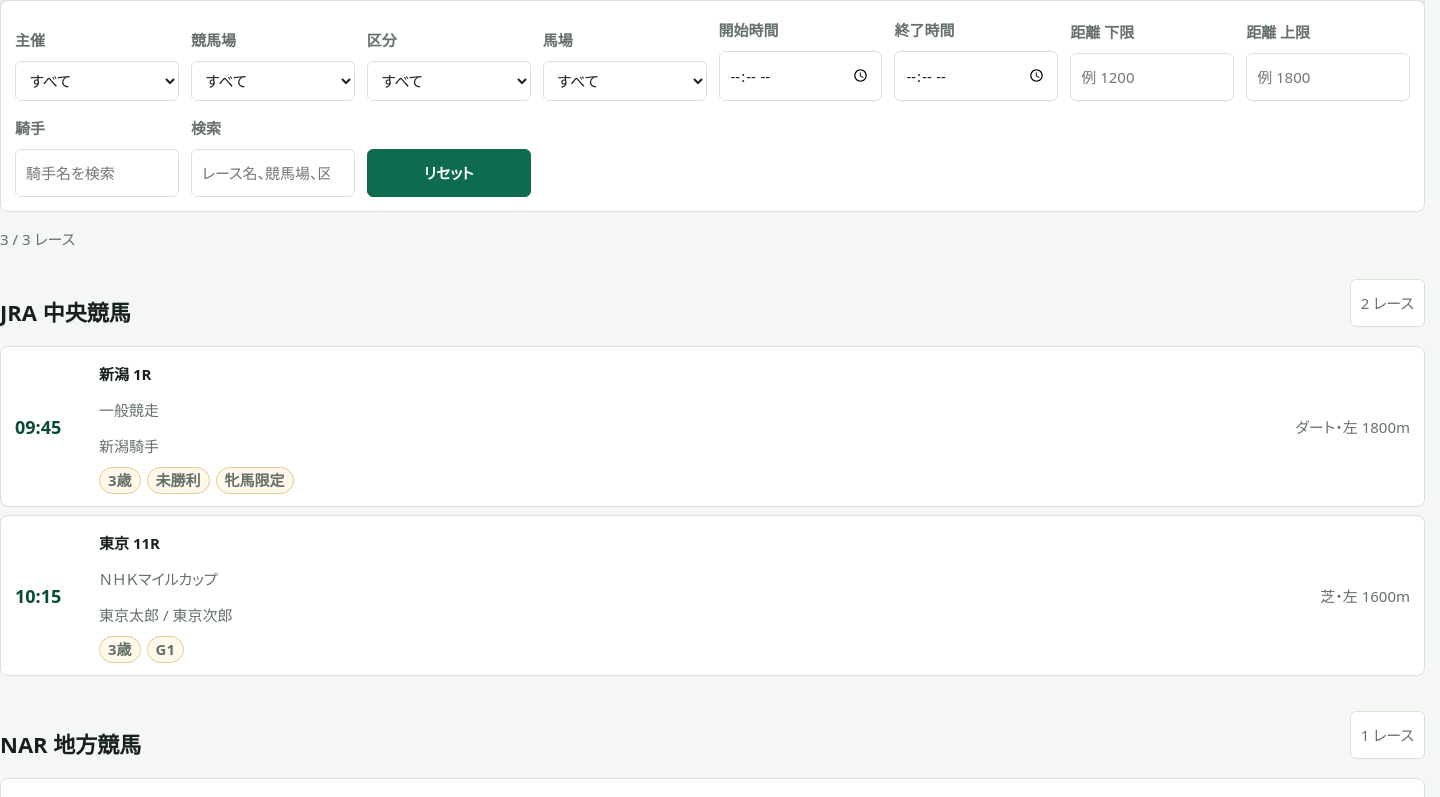
Test: race date filter › supports keyboard selection for jockey suggestions
Focus the dropdown labelled "騎手" at (97, 173), box top-left (15, 149), bottom-right (179, 197)
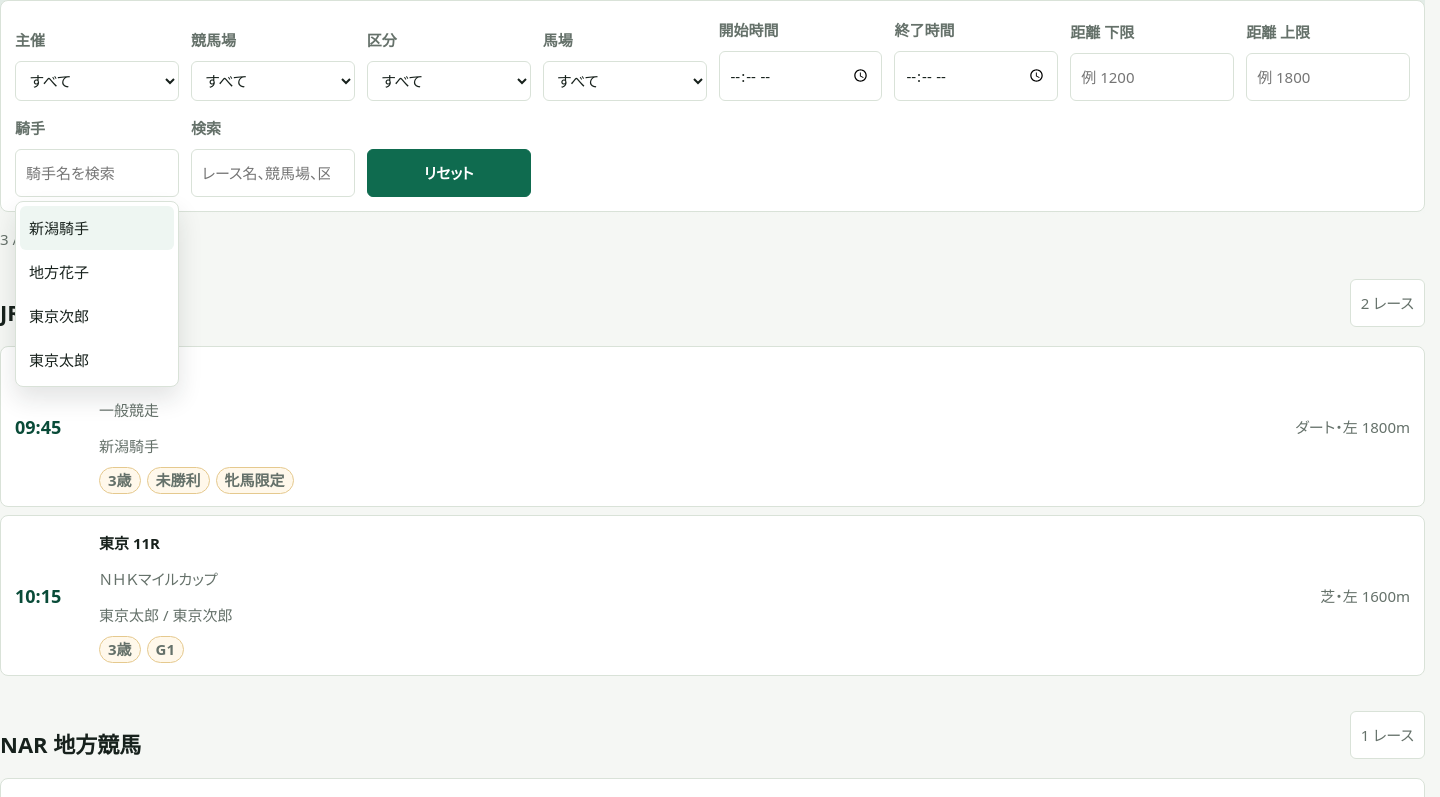
Check: the button "地方花子" is shown, box top-left (20, 250), bottom-right (174, 294)
Press Escape in the dropdown labelled "騎手", box top-left (15, 149), bottom-right (179, 197)
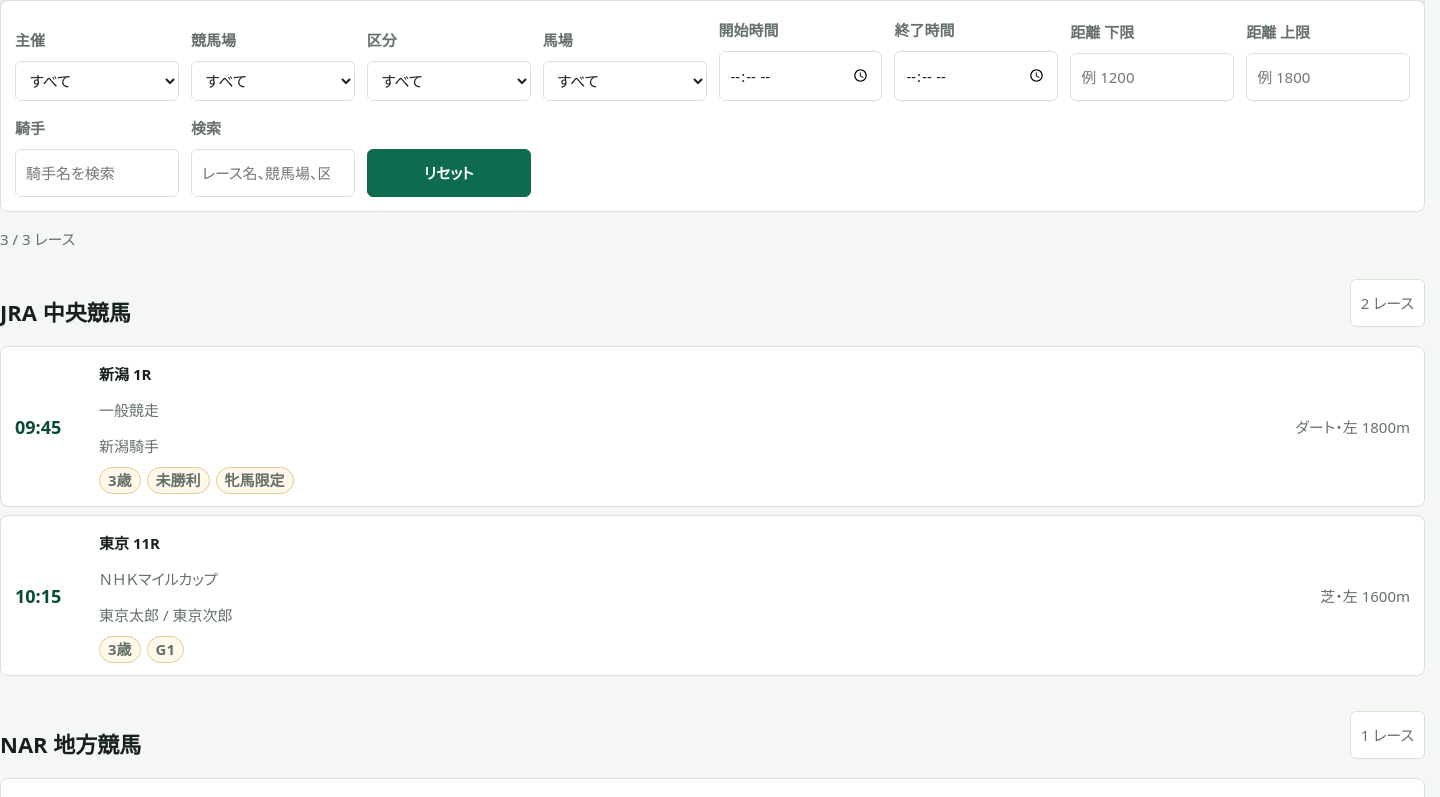
Check: the element with class "filter-jockey-listbox" is gone
Type "東京" into the dropdown labelled "騎手" at (97, 173), box top-left (15, 149), bottom-right (179, 197)
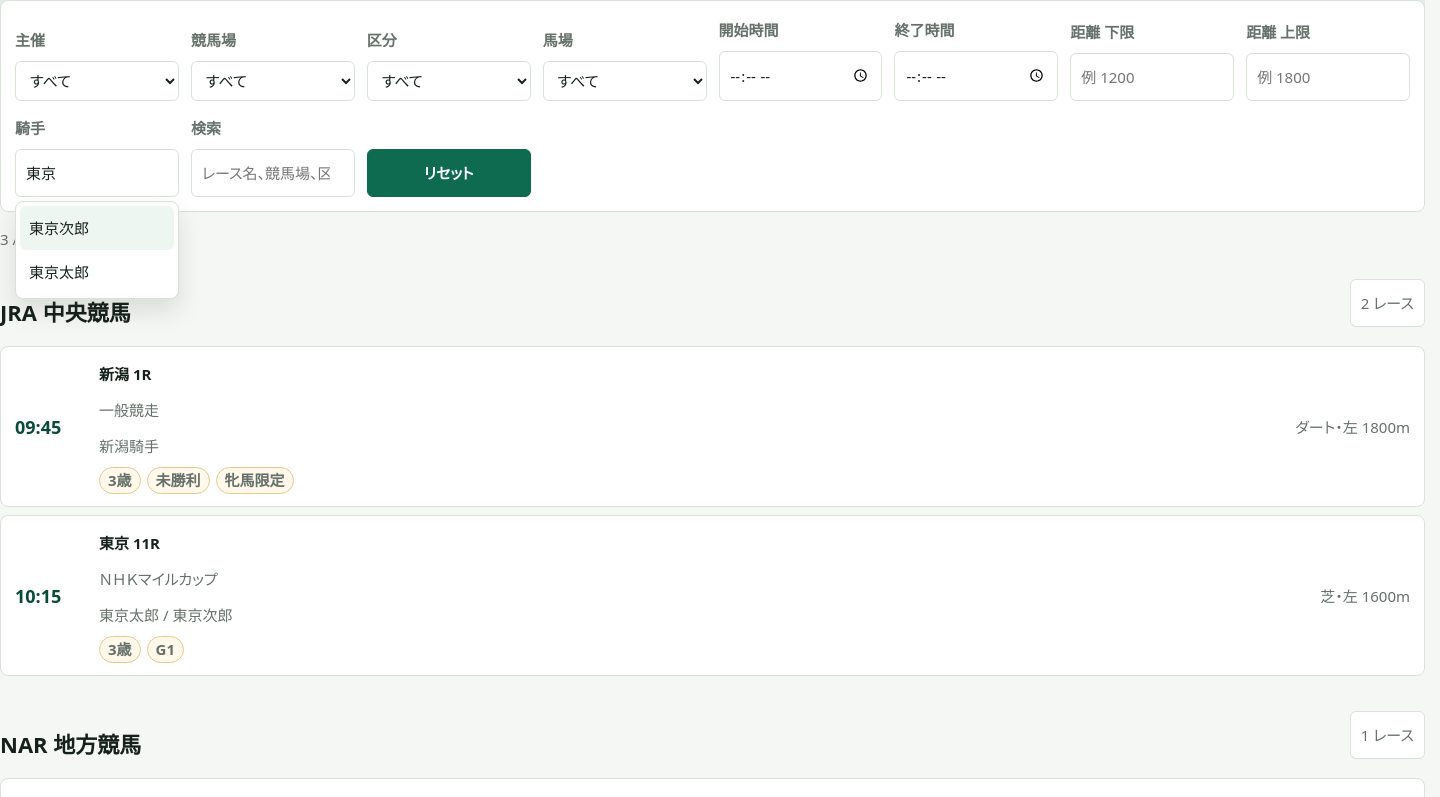
Press ArrowDown in the dropdown labelled "騎手", box top-left (15, 149), bottom-right (179, 197)
Press ArrowUp in the dropdown labelled "騎手", box top-left (15, 149), bottom-right (179, 197)
Press ArrowDown in the dropdown labelled "騎手", box top-left (15, 149), bottom-right (179, 197)
Press Enter in the dropdown labelled "騎手", box top-left (15, 149), bottom-right (179, 197)
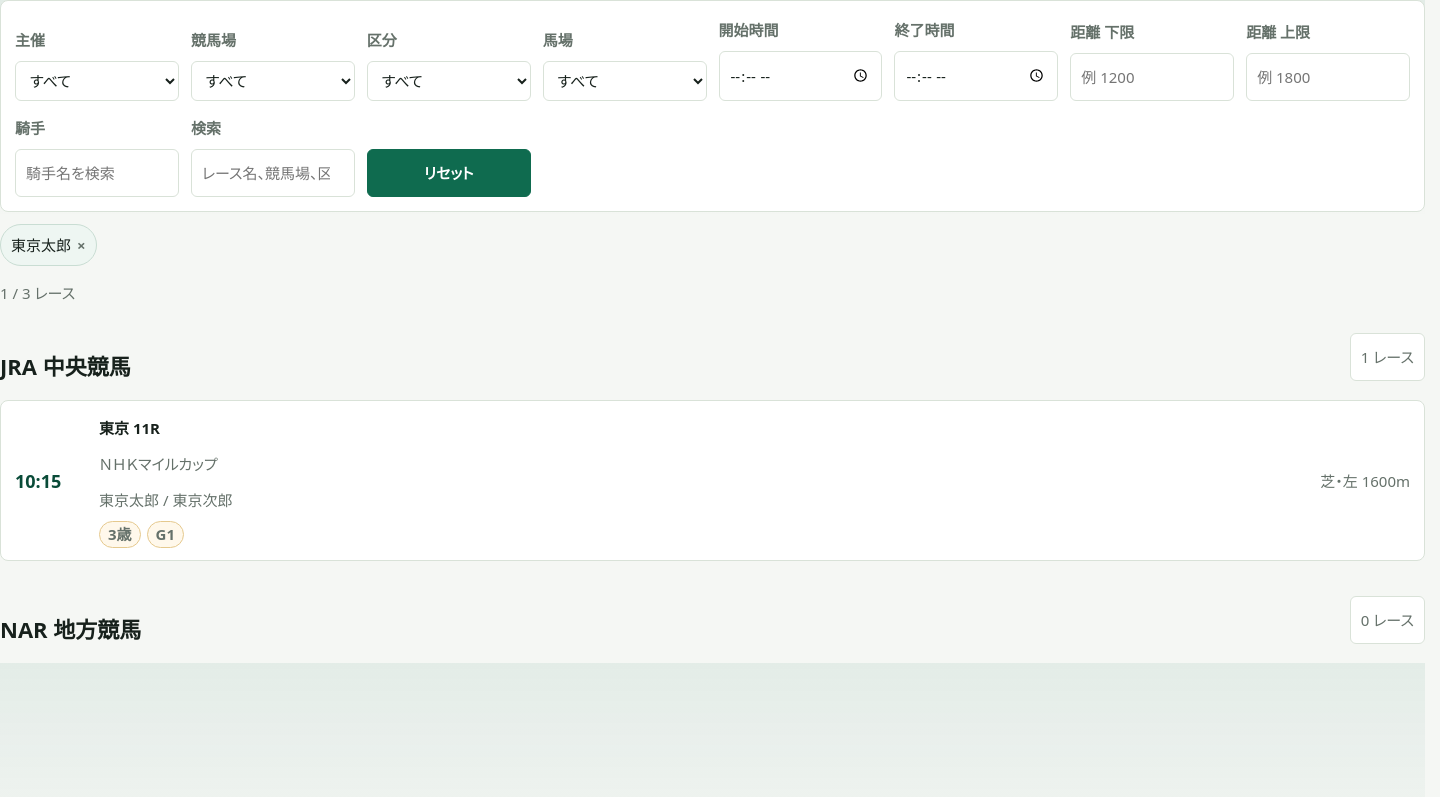
Check: the element named "selected jockey filters" shows "東京太郎", box top-left (0, 224), bottom-right (97, 266)
Check: the text "1 / 3 レース" is shown, box top-left (0, 283), bottom-right (75, 303)
